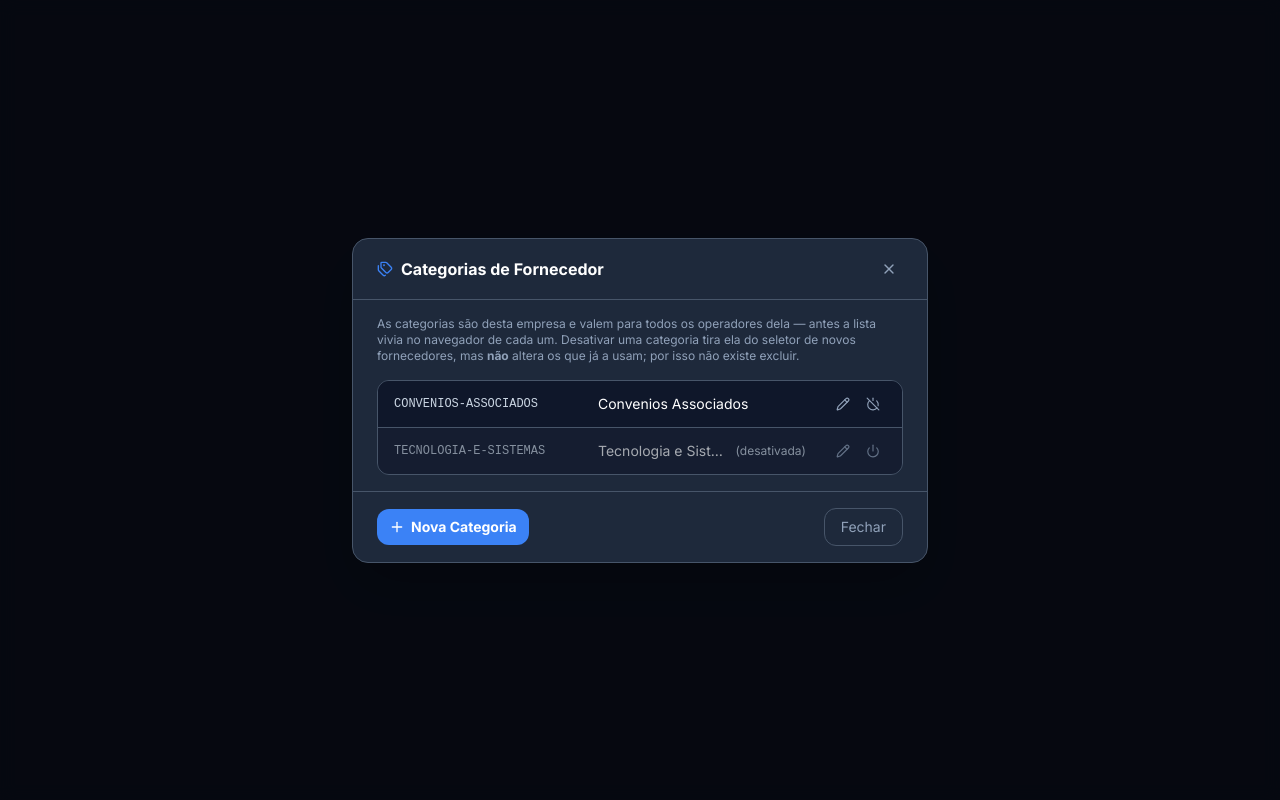
Test: CategoriasFornecedorModal › avisa que renomear muda o nome exibido nos fornecedores daquela categoria
Click the button titled "Renomear" in the row of "CONVENIOS-ASSOCIADOS". click: (843, 404)
box: [830,390,856,416]
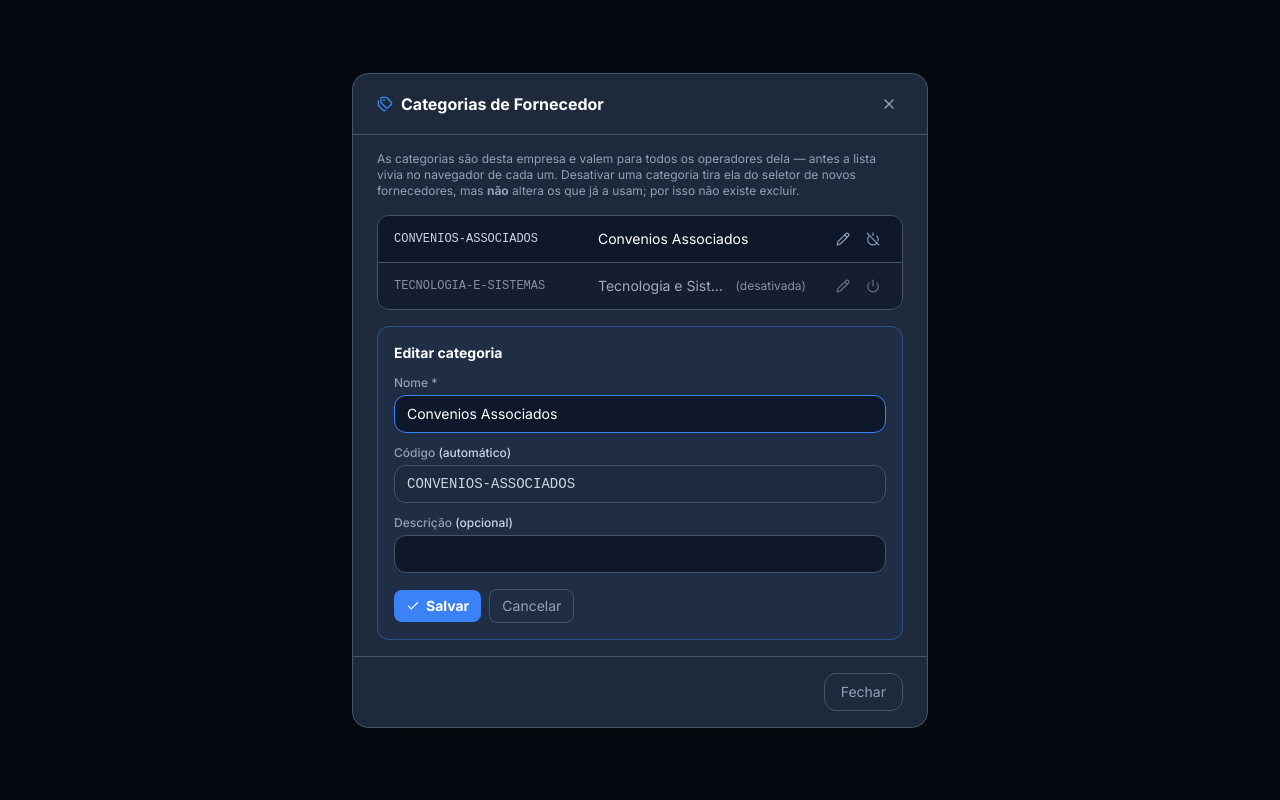
Expected: the text "passam a exibir o nome novo" is not shown
Replace the text in the field with placeholder "Urnas e Caixões" below "Nome *" with "Convênios de Associados". click: (640, 414)
box: [394,394,886,432]
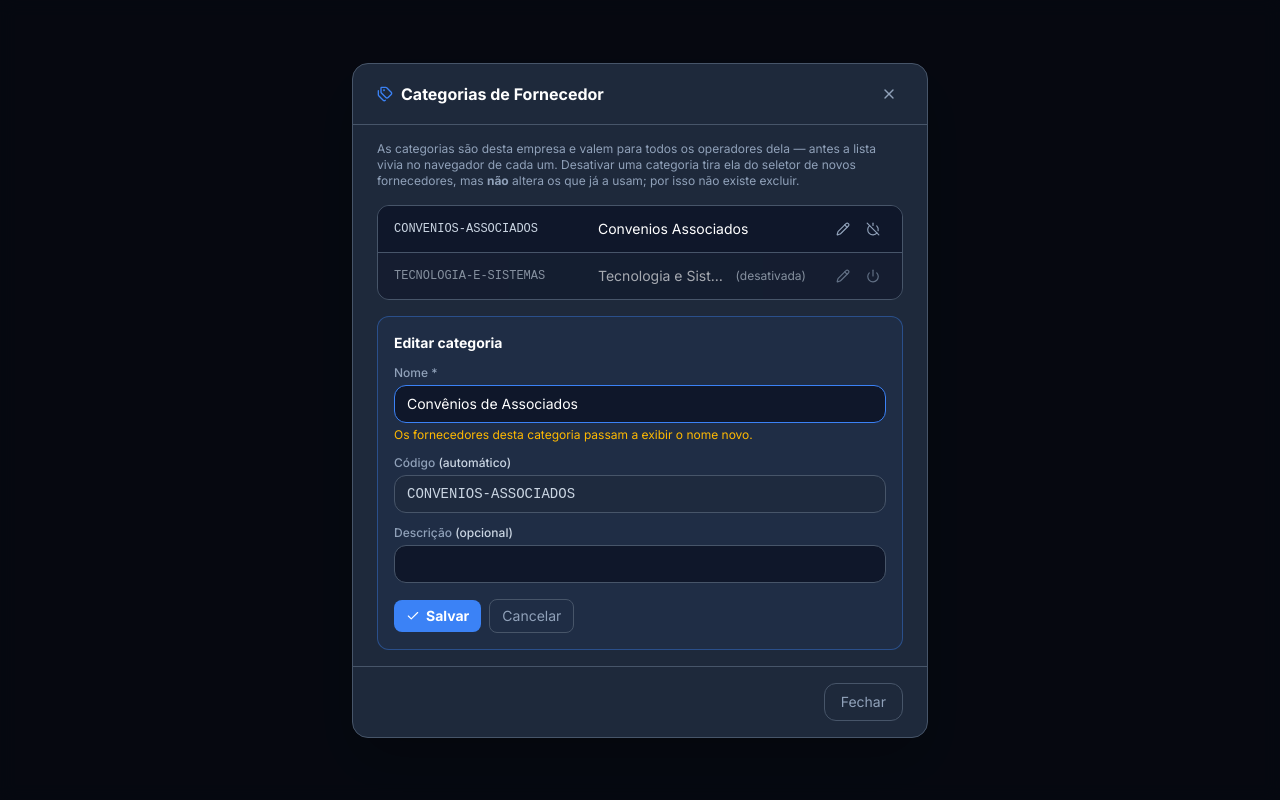
Now the text "Os fornecedores desta categoria passam a exibir o nome novo." is shown, box [394,426,753,442]
